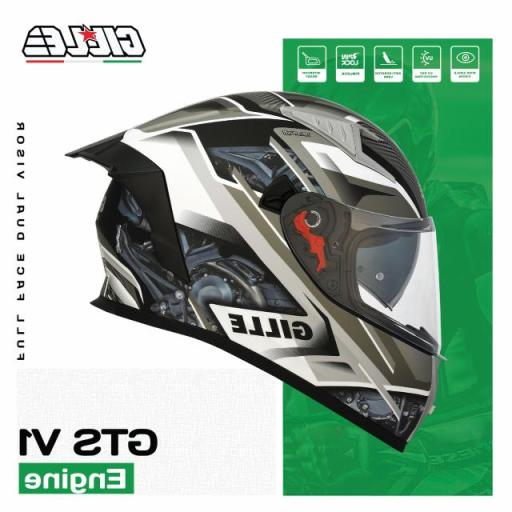Helmet: (69, 92, 439, 449)
